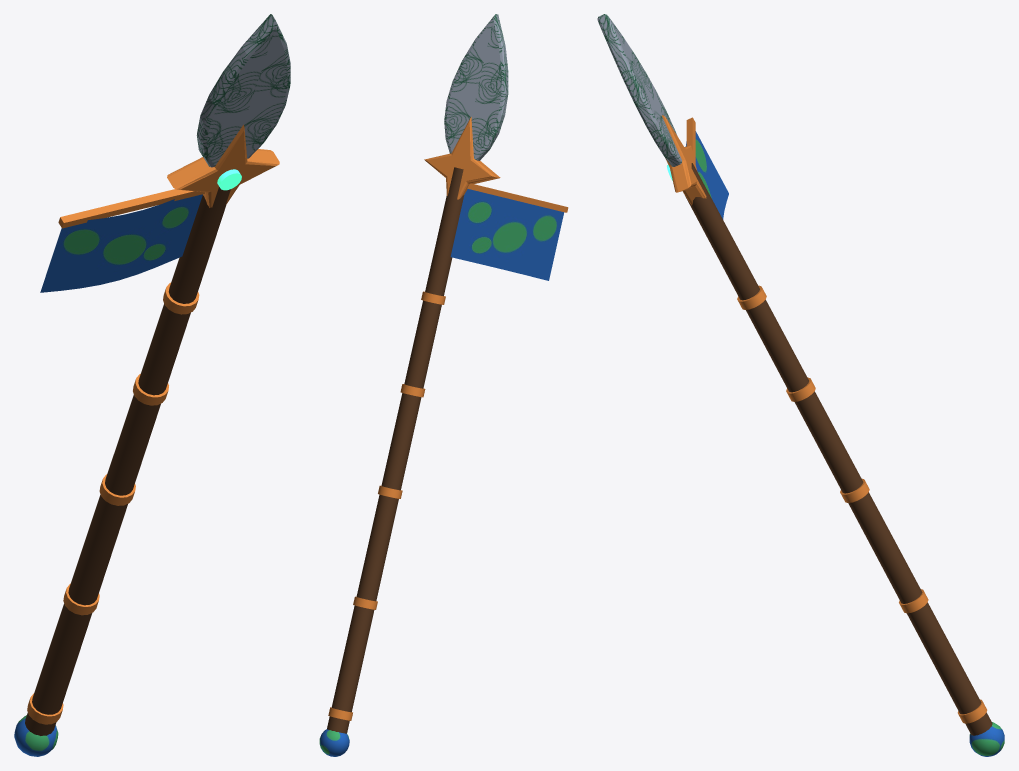
File: hand_eqsa3.glb
3 views of the same model, side by side, from view 1: azimuth 30°, elevation 25°; view 2: azimuth 150°, elevation 25°; view 3: azimuth 270°, elevation 25° (orthographic). The views are drawn at different scales.
Bounding box in the file's own units: 1.71 × 7.08 × 3.53.
7 materials, 3 textured.
